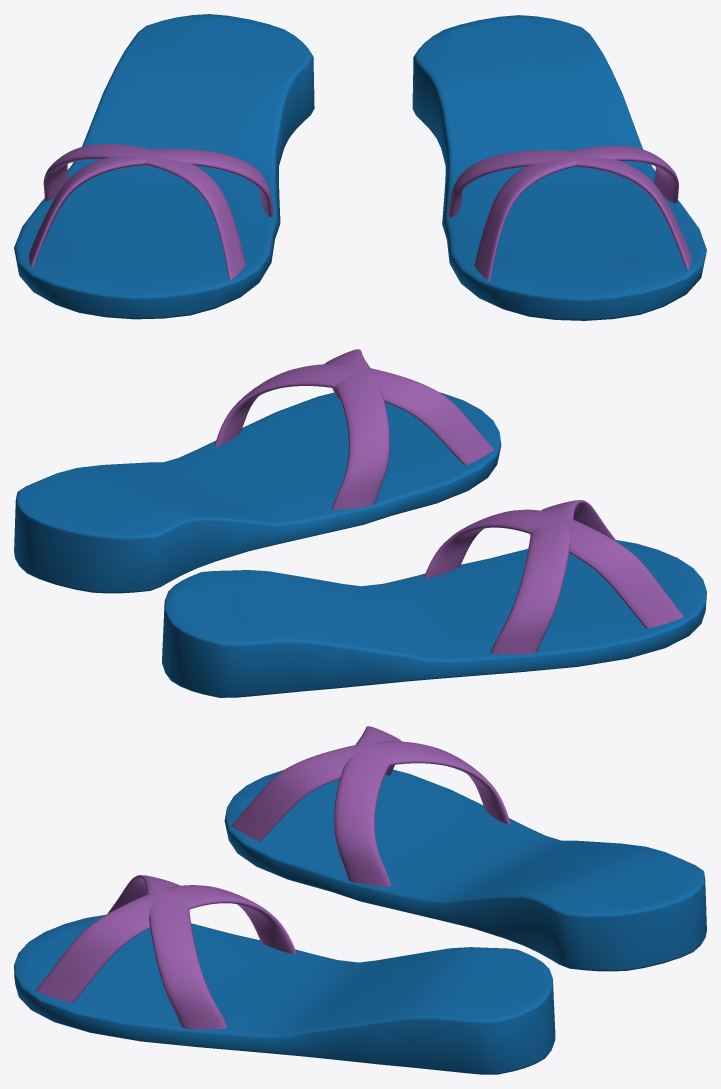
File: тапочки.fbx
3 views of the same model, one above another, from view 1: azimuth 30°, elevation 25°; view 2: azimuth 150°, elevation 25°; view 3: azimuth 270°, elevation 25° (orthographic). The views are drawn at different scales.
Parts seen in each view (by area): view 1: Plane.001; view 2: Plane.001; view 3: Plane.001.
Part boxes in pixels (x1,y1,x2,y2): Plane.001: (14, 14, 706, 320); Plane.001: (14, 349, 706, 697); Plane.001: (14, 726, 706, 1074).
Bounding box in the file's own units: 6.32 × 0.9566 × 6.3.
1 material, 1 textured.
